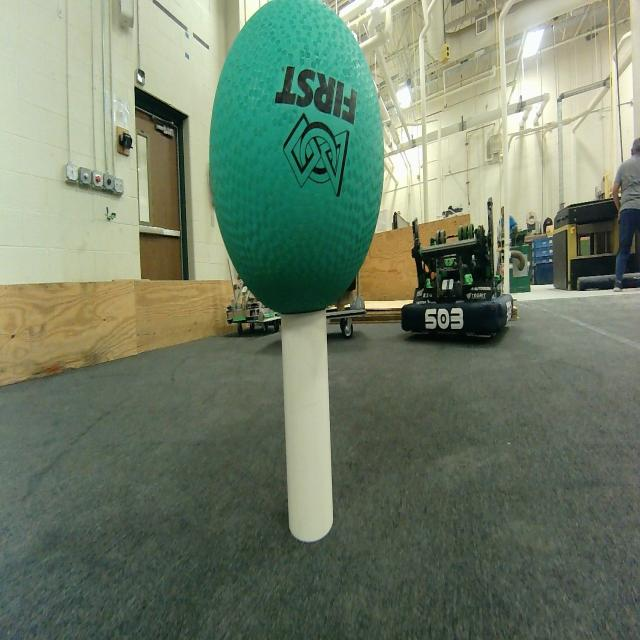algae: (201, 1, 403, 323)
coral: (270, 307, 352, 547)
